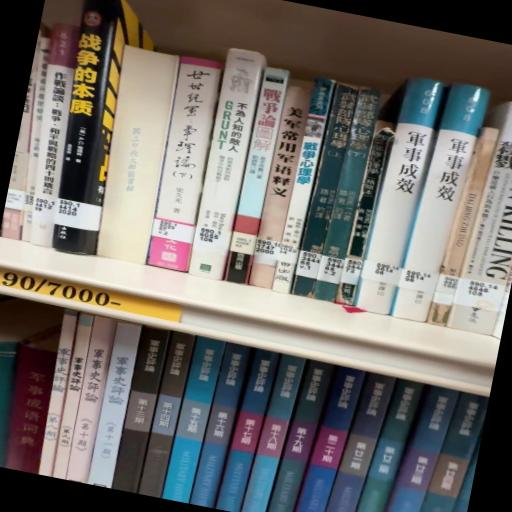backward: (87, 50, 189, 269)
book: (37, 1, 140, 260), (186, 52, 270, 286), (140, 60, 225, 277), (189, 341, 252, 510), (1, 345, 63, 475)
